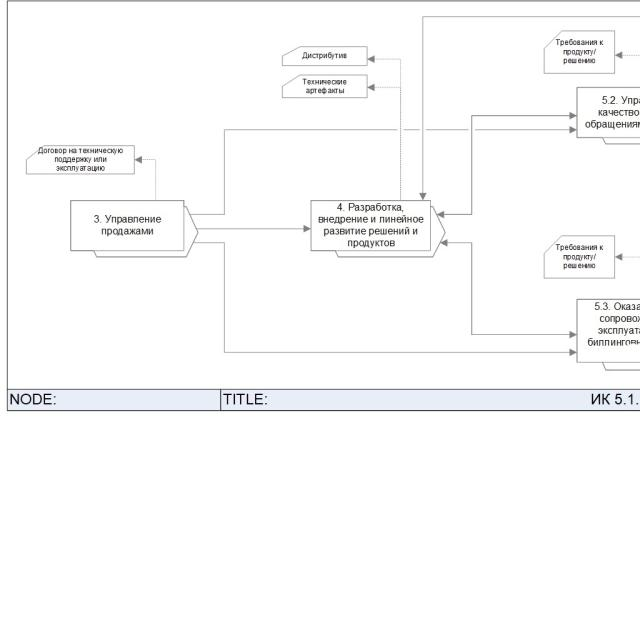arrow: (192, 239, 577, 358), (190, 126, 576, 215), (438, 111, 577, 221), (443, 237, 578, 339), (367, 53, 404, 201), (198, 224, 310, 234), (135, 154, 158, 199)
